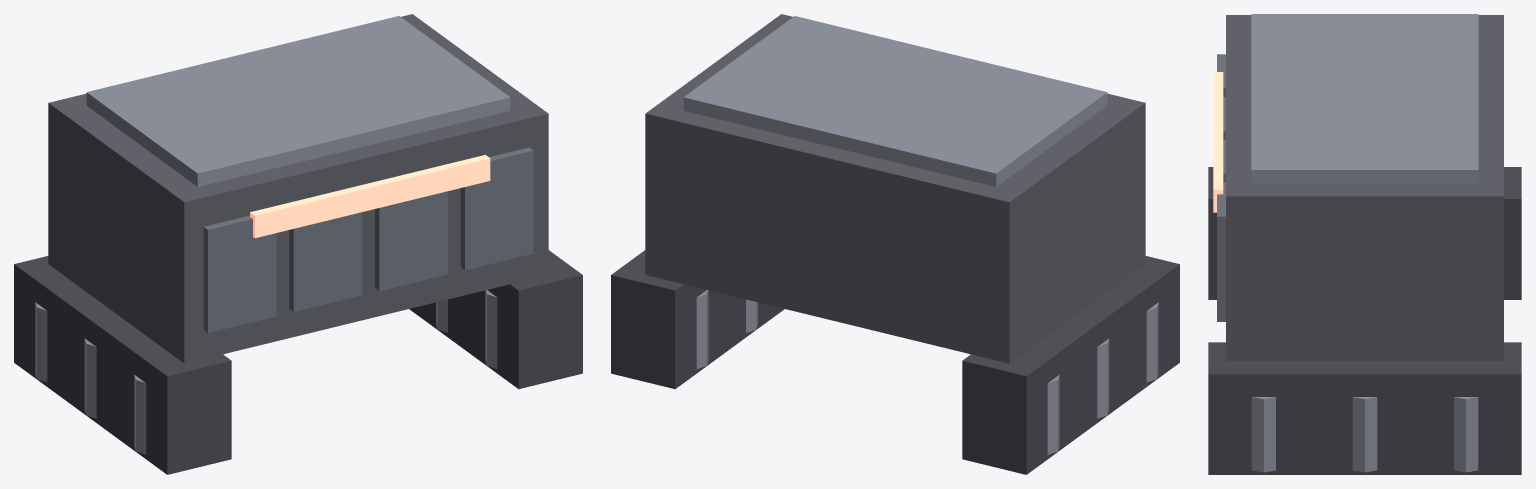
File: enemy_tank.glb
3 renders of one model, left to right at view 1: azimuth 30°, elevation 25°; view 2: azimuth 150°, elevation 25°; view 3: azimuth 270°, elevation 25°, orthographic. The views are drawn at different scales.
Parts seen in each view (by area): view 1: Chassis, Vent, Tread-1, Tread1, DriveBay0, DriveBay3, EyeSlot, DriveBay1, DriveBay2, Wheel-1_2, Wheel-1_1, Wheel-1_0 (+1 smaller); view 2: Chassis, Vent, Tread-1, Tread1, Wheel-1_0, Wheel-1_1, Wheel-1_2, Wheel1_2; view 3: Chassis, Vent, Tread1, Tread-1, Wheel1_1, Wheel1_0, Wheel1_2, EyeSlot, DriveBay3.
Boxes of the visible parts, bbox=[...] form: Chassis: bbox=[48, 14, 548, 363]; Vent: bbox=[86, 16, 510, 186]; Tread-1: bbox=[14, 256, 231, 474]; Tread1: bbox=[409, 250, 582, 389]; DriveBay0: bbox=[203, 215, 276, 332]; DriveBay3: bbox=[460, 147, 533, 270]; EyeSlot: bbox=[250, 155, 490, 238]; DriveBay1: bbox=[289, 212, 362, 311]; DriveBay2: bbox=[375, 191, 447, 291]; Wheel-1_2: bbox=[35, 302, 47, 382]; Wheel-1_1: bbox=[84, 338, 96, 418]; Wheel-1_0: bbox=[134, 375, 146, 454]; Chassis: bbox=[645, 14, 1145, 363]; Vent: bbox=[683, 16, 1107, 186]; Tread-1: bbox=[962, 256, 1179, 474]; Tread1: bbox=[611, 250, 784, 389]; Wheel-1_0: bbox=[1146, 302, 1158, 382]; Wheel-1_1: bbox=[1097, 338, 1109, 418]; Wheel-1_2: bbox=[1047, 375, 1059, 454]; Wheel1_2: bbox=[696, 290, 708, 368]; Chassis: bbox=[1226, 15, 1503, 361]; Vent: bbox=[1251, 14, 1478, 183]; Tread1: bbox=[1208, 342, 1521, 474]; Tread-1: bbox=[1208, 167, 1521, 299]; Wheel1_1: bbox=[1352, 397, 1377, 472]; Wheel1_0: bbox=[1251, 397, 1275, 472]; Wheel1_2: bbox=[1454, 397, 1478, 472]; EyeSlot: bbox=[1213, 72, 1223, 212]; DriveBay3: bbox=[1217, 182, 1225, 321].
Size of the model in its own units: 1.98 by 1.22 by 1.24.
